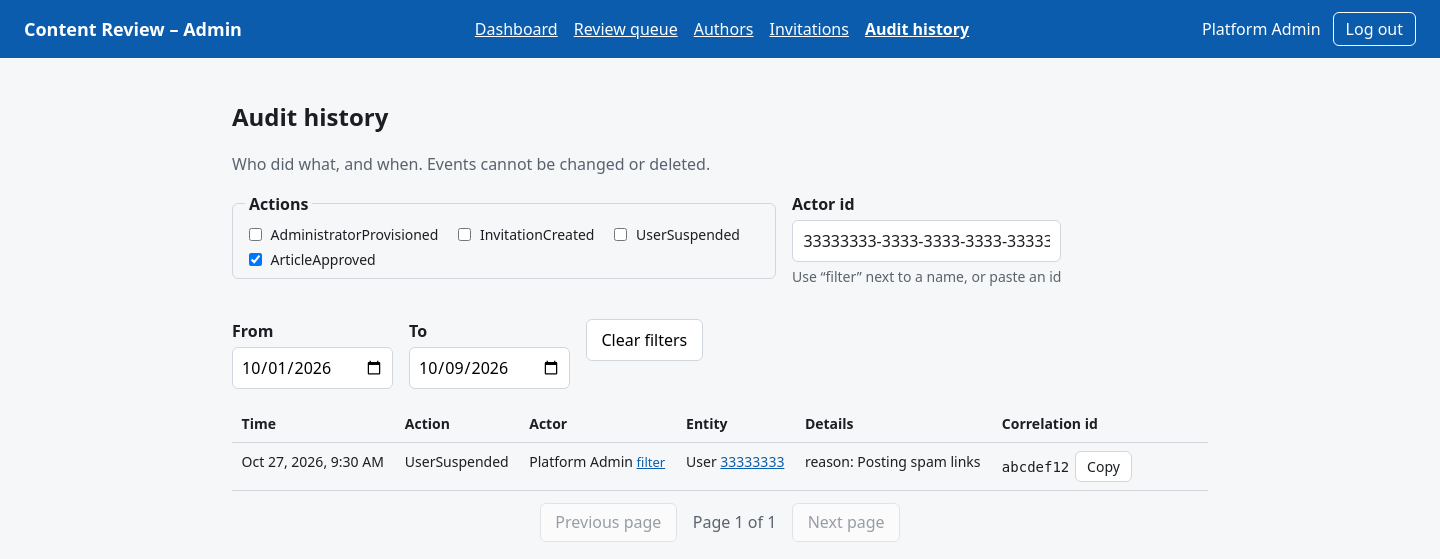
Test: filters › clears every filter
Check: the row with test id "audit-row" is shown, box [232,442,1208,490]
Click the button with test id "audit-clear". click: {"x": 644, "y": 340}
box: [586,319,703,361]
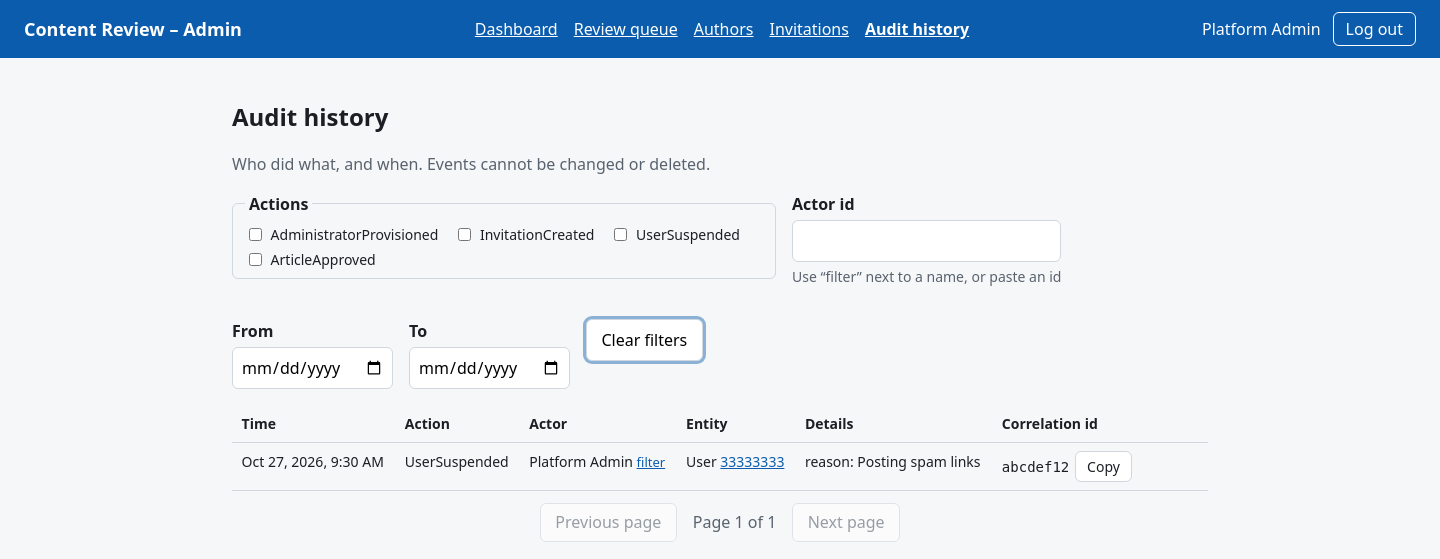
Check: the field labelled "Actor id" is empty, box [792,220,1061,262]
Check: the date field labelled "From" is empty, box [232,347,393,389]
Check: the checkbox labelled "ArticleApproved" is not checked, box [249,253,262,266]
